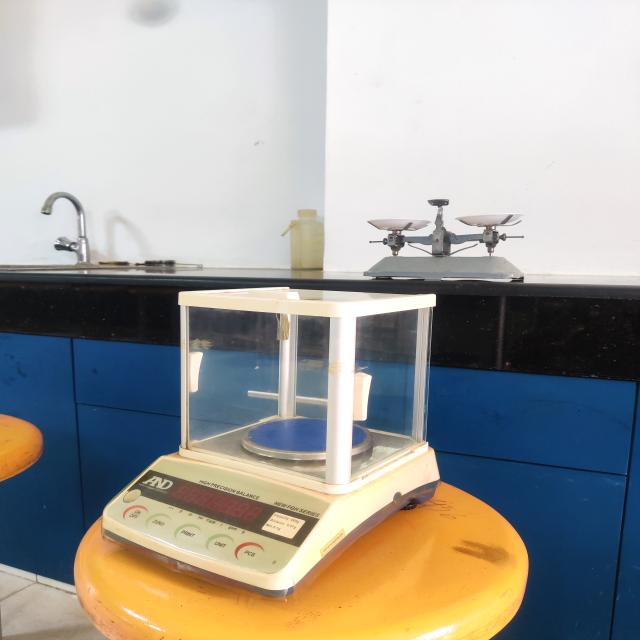Mechanical_Balance_Scale: (356, 184, 542, 296)
Precision_Weight_Scale: (81, 272, 465, 619)
